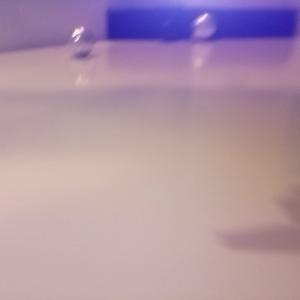alive_ball: (68, 25, 95, 56), (191, 13, 218, 40)
